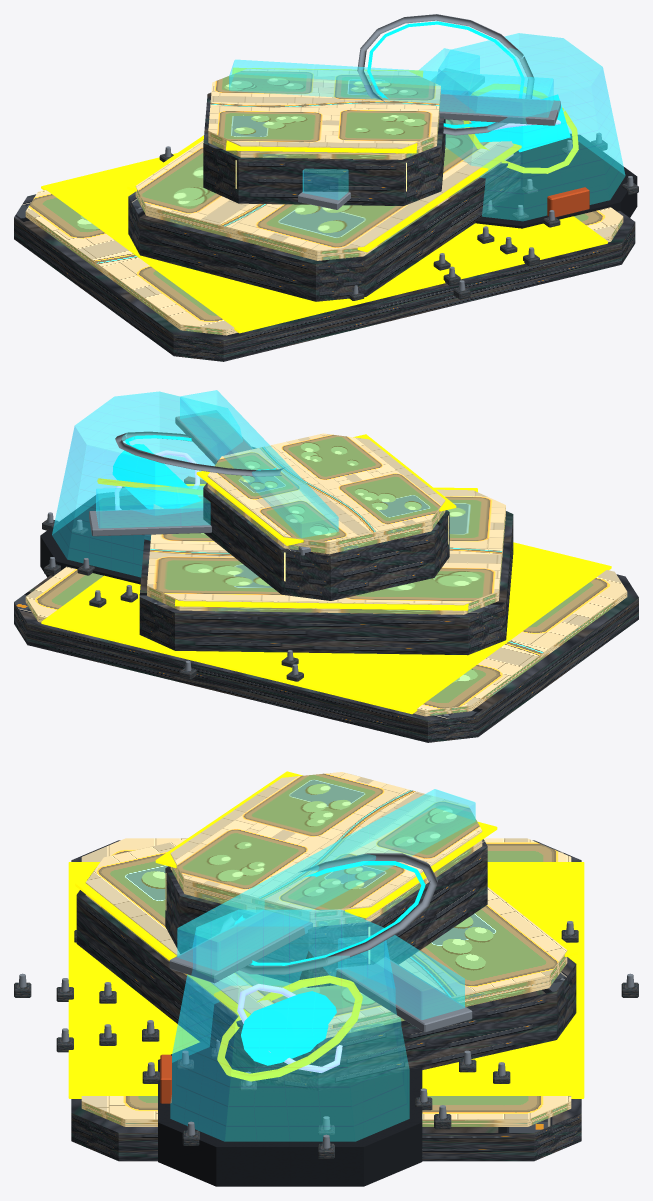
File: interior_setpiece_05_r1_02.glb
3 views of the same model, one above another, from view 1: azimuth 30°, elevation 25°; view 2: azimuth 150°, elevation 25°; view 3: azimuth 270°, elevation 25° (orthographic). The views are drawn at different scales.
Parts seen in each view (by area): view 1: Setpiece05_C02_cliff_basalt, Setpiece05_C02_promenade_paving, Setpiece05_C02_glass_cyan, Setpiece05_C02_led_amber, Setpiece05_C02_steel_machined, Setpiece05_C02_gunmetal, Setpiece05_C02_led_cyan, Setpiece05_C02_accent_orange; view 2: Setpiece05_C02_cliff_basalt, Setpiece05_C02_promenade_paving, Setpiece05_C02_glass_cyan, Setpiece05_C02_led_amber, Setpiece05_C02_steel_machined, Setpiece05_C02_gunmetal, Setpiece05_C02_led_cyan; view 3: Setpiece05_C02_glass_cyan, Setpiece05_C02_promenade_paving, Setpiece05_C02_cliff_basalt, Setpiece05_C02_led_amber, Setpiece05_C02_gunmetal, Setpiece05_C02_steel_machined, Setpiece05_C02_led_cyan, Setpiece05_C02_led_uv, Setpiece05_C02_accent_orange.
Boxes of the visible parts, bbox=[...] form: Setpiece05_C02_cliff_basalt: bbox=[14, 92, 638, 361]; Setpiece05_C02_promenade_paving: bbox=[25, 69, 623, 335]; Setpiece05_C02_glass_cyan: bbox=[229, 33, 625, 220]; Setpiece05_C02_led_amber: bbox=[41, 68, 607, 333]; Setpiece05_C02_steel_machined: bbox=[165, 14, 633, 294]; Setpiece05_C02_gunmetal: bbox=[475, 134, 637, 228]; Setpiece05_C02_led_cyan: bbox=[367, 21, 570, 151]; Setpiece05_C02_accent_orange: bbox=[547, 187, 589, 217]; Setpiece05_C02_cliff_basalt: bbox=[14, 483, 638, 742]; Setpiece05_C02_promenade_paving: bbox=[25, 433, 627, 716]; Setpiece05_C02_glass_cyan: bbox=[52, 390, 338, 577]; Setpiece05_C02_led_amber: bbox=[41, 434, 611, 714]; Setpiece05_C02_steel_machined: bbox=[47, 410, 310, 674]; Setpiece05_C02_gunmetal: bbox=[40, 492, 146, 584]; Setpiece05_C02_led_cyan: bbox=[112, 435, 275, 508]; Setpiece05_C02_glass_cyan: bbox=[170, 789, 475, 1141]; Setpiece05_C02_promenade_paving: bbox=[81, 772, 571, 1126]; Setpiece05_C02_cliff_basalt: bbox=[14, 839, 638, 1161]; Setpiece05_C02_led_amber: bbox=[68, 771, 584, 1098]; Setpiece05_C02_gunmetal: bbox=[158, 1041, 422, 1186]; Setpiece05_C02_steel_machined: bbox=[18, 853, 634, 1148]; Setpiece05_C02_led_cyan: bbox=[235, 861, 425, 1065]; Setpiece05_C02_led_uv: bbox=[237, 984, 342, 1072]; Setpiece05_C02_accent_orange: bbox=[160, 1054, 171, 1103].
Bounding box in the file's own units: 42.08 × 12.95 × 34.29.
10 materials, 10 textured.
